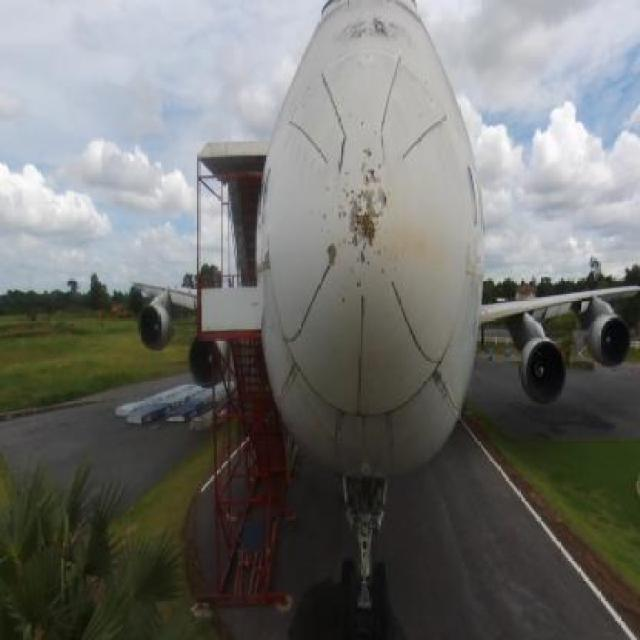Rust: (331, 14, 422, 58), (384, 214, 448, 266)
Scartch: (342, 174, 396, 266), (259, 239, 284, 281), (318, 230, 342, 270), (427, 356, 448, 392)
